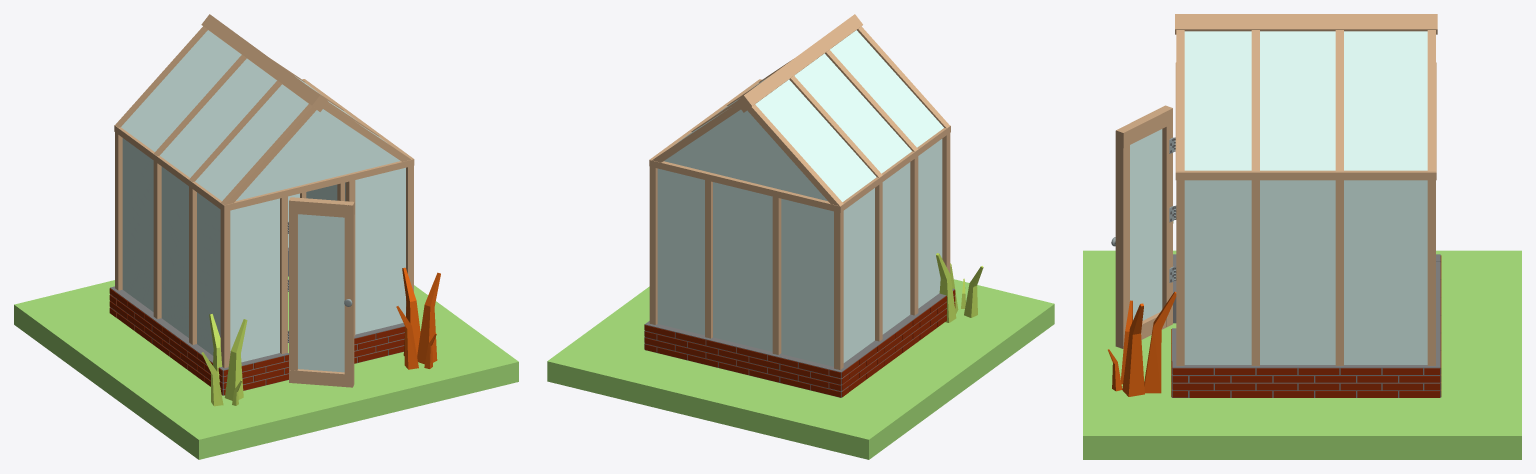
The model's file is building_greenhouse.fbx.
3 renders of one model, left to right at view 1: azimuth 30°, elevation 25°; view 2: azimuth 150°, elevation 25°; view 3: azimuth 270°, elevation 25°, orthographic. The views are drawn at different scales.
Parts seen in each view (by area): view 1: basis; view 2: basis; view 3: basis.
Boxes of the visible parts, left/top/right/bottom form: basis: left=14, top=14, right=518, bottom=459; basis: left=547, top=14, right=1054, bottom=459; basis: left=1083, top=14, right=1521, bottom=459.
Size of the model in its own units: 50 by 44.43 by 50.
